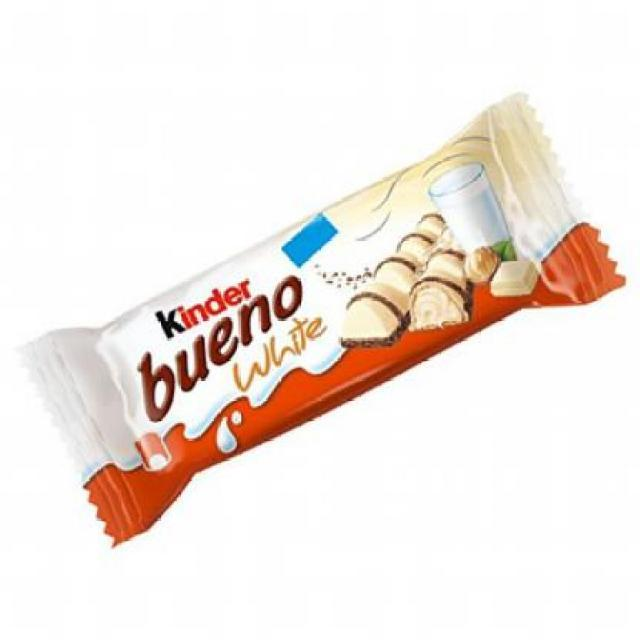Chocolate bar: (10, 96, 628, 553)
